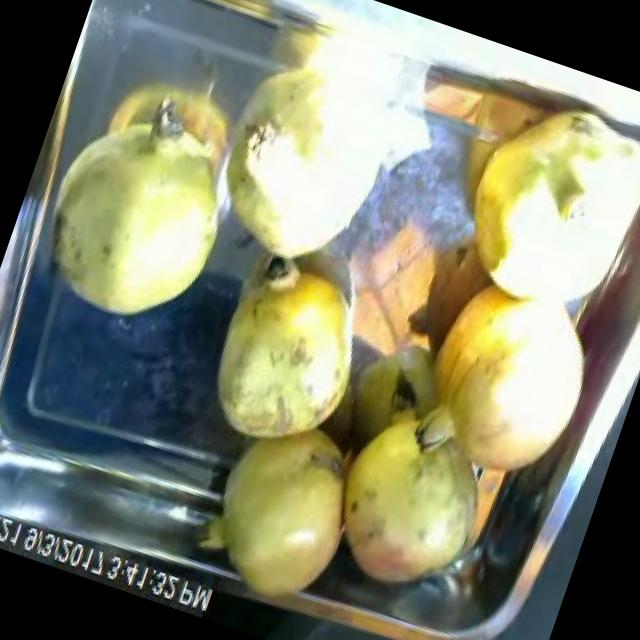fruit: (413, 51, 640, 353), (12, 83, 264, 354), (172, 36, 420, 310), (380, 245, 628, 514), (184, 222, 402, 478), (305, 383, 521, 620), (180, 391, 384, 625)
